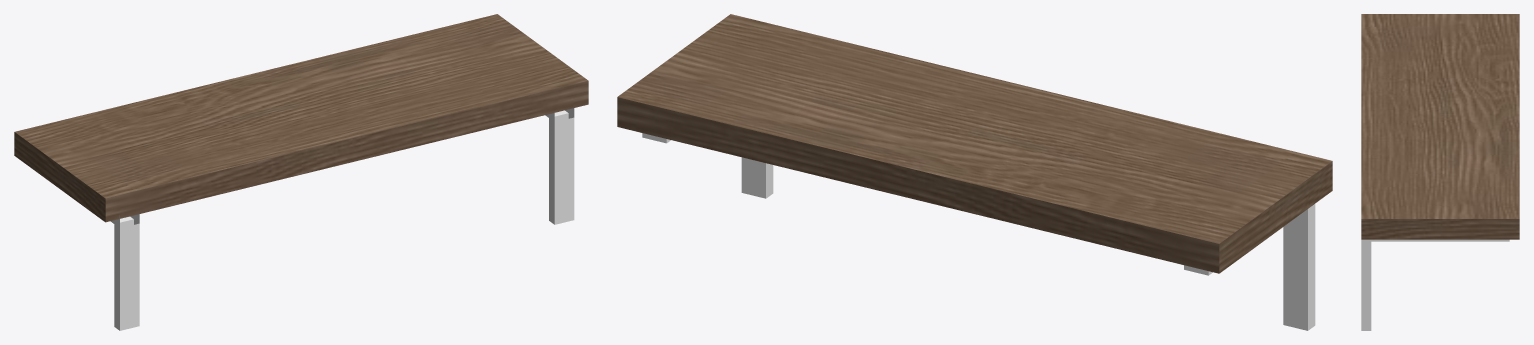
Rendered from Shelf_01.glb.
3 views of the same model, side by side, from view 1: azimuth 30°, elevation 25°; view 2: azimuth 150°, elevation 25°; view 3: azimuth 270°, elevation 25° (orthographic). The views are drawn at different scales.
Visible parts, largest first — view 1: Shelf_01; view 2: Shelf_01; view 3: Shelf_01.
Part boxes in pixels (bbox=[...]): Shelf_01: bbox=[14, 14, 588, 330]; Shelf_01: bbox=[617, 14, 1332, 330]; Shelf_01: bbox=[1361, 14, 1519, 330].
Size of the model in its own units: 0.8176 by 0.2197 by 0.2675.
Materials: 2 (1 with a texture image).
